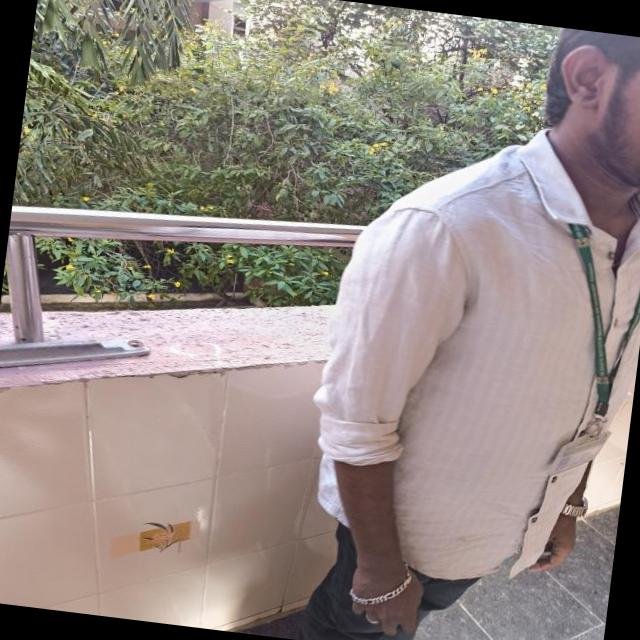id_card: (540, 212, 640, 486)
